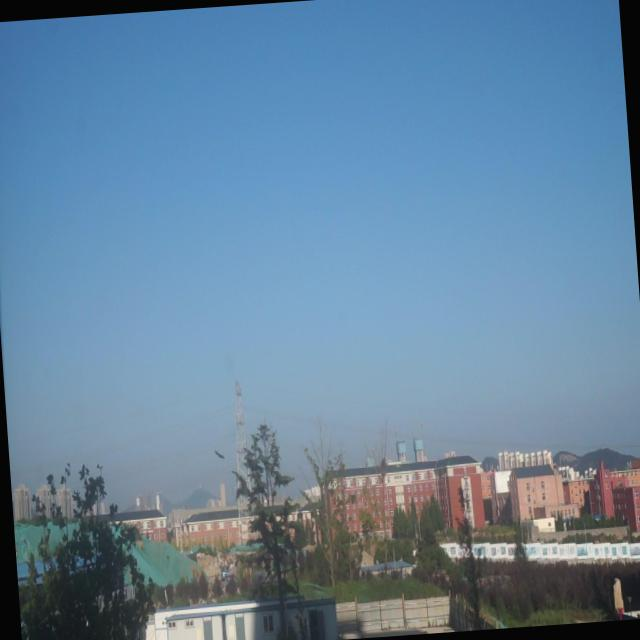drone: (214, 446, 226, 461)
